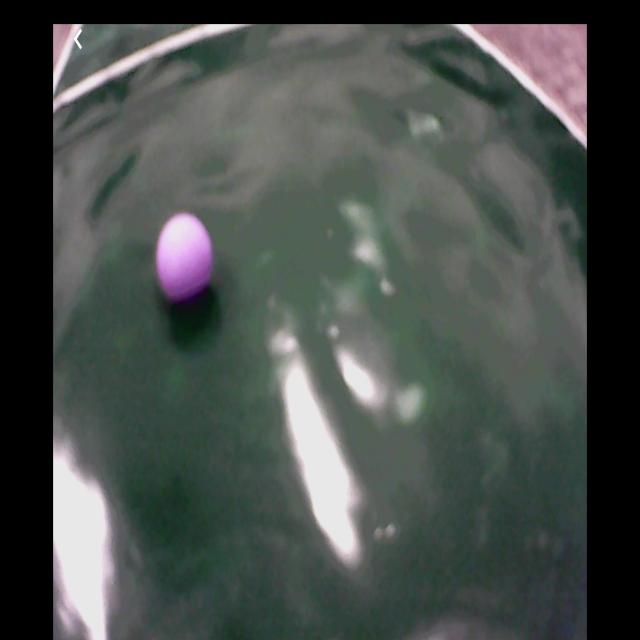ball: (159, 215, 214, 304)
